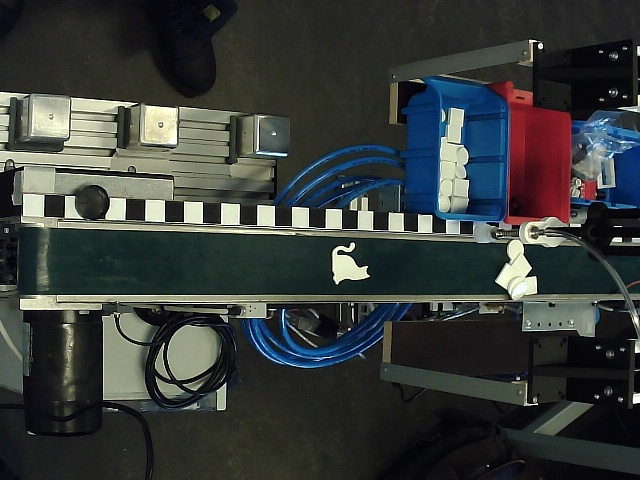cat: (331, 241, 371, 286)
